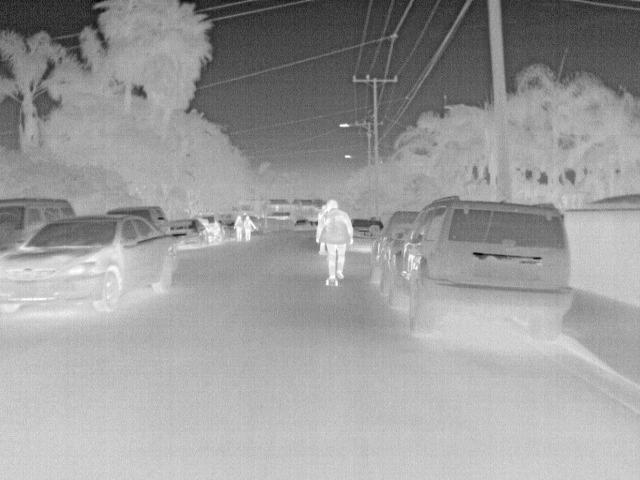car: (385, 195, 573, 341), (2, 214, 172, 314), (366, 209, 419, 289), (1, 195, 72, 252), (107, 202, 169, 234), (344, 216, 384, 253), (170, 218, 210, 254), (191, 212, 223, 248), (289, 214, 312, 230)
person: (315, 201, 356, 280), (241, 214, 258, 241), (316, 204, 329, 232), (233, 215, 245, 240)
